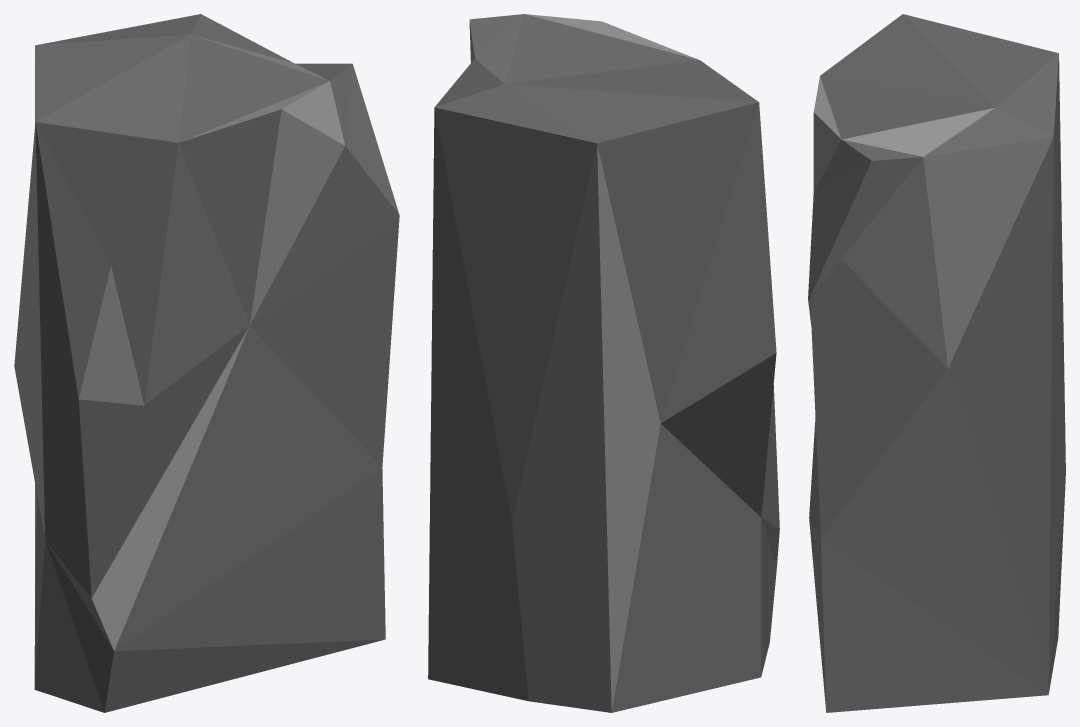
File: Rock_1.fbx
The picture shows the model from 3 angles, left to right: view 1: azimuth 30°, elevation 25°; view 2: azimuth 150°, elevation 25°; view 3: azimuth 270°, elevation 25°; orthographic projection. The views are drawn at different scales.
Visible parts, largest first — view 1: Cube.001; view 2: Cube.001; view 3: Cube.001.
Part boxes in pixels (box(x1,y1,x2,y2)): Cube.001: box(14, 14, 399, 712); Cube.001: box(428, 14, 779, 712); Cube.001: box(808, 14, 1065, 712).
Bounding box in the file's own units: 728 × 1212 × 497.
